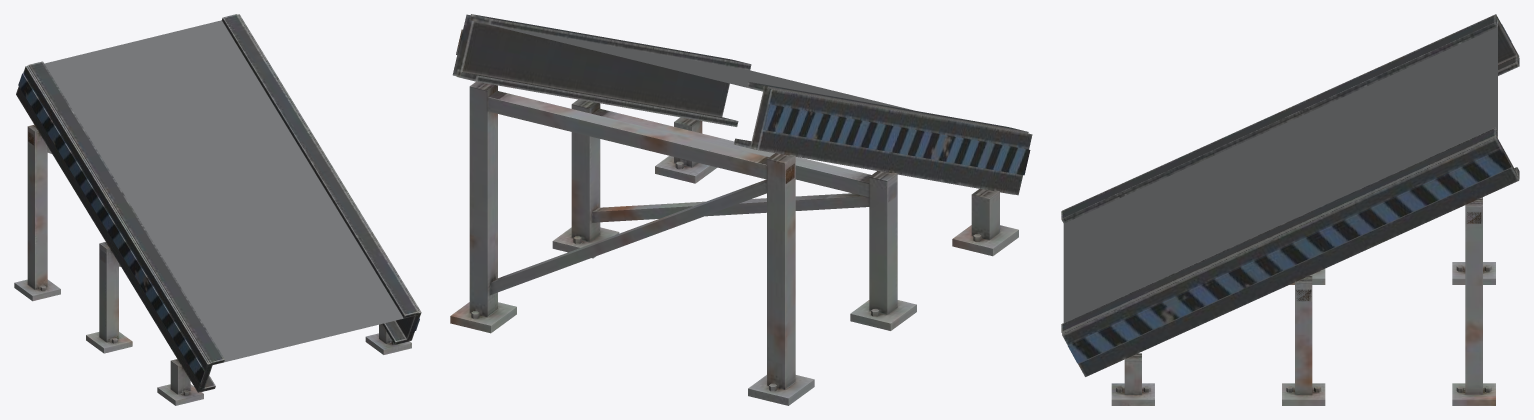
File: esteira_rampa_expressa.glb
3 renders of one model, left to right at view 1: azimuth 30°, elevation 25°; view 2: azimuth 150°, elevation 25°; view 3: azimuth 270°, elevation 25°, orthographic. The views are drawn at different scales.
Parts seen in each view (by area): view 1: esteira_rampa_expressa_corpo; view 2: esteira_rampa_expressa_corpo; view 3: esteira_rampa_expressa_corpo.
Boxes of the visible parts, bbox=[...] form: esteira_rampa_expressa_corpo: bbox=[14, 14, 421, 405]; esteira_rampa_expressa_corpo: bbox=[450, 14, 1032, 405]; esteira_rampa_expressa_corpo: bbox=[1061, 14, 1519, 405].
Size of the model in its own units: 0.75 by 0.6661 by 1.06.
2 materials, 1 textured.
